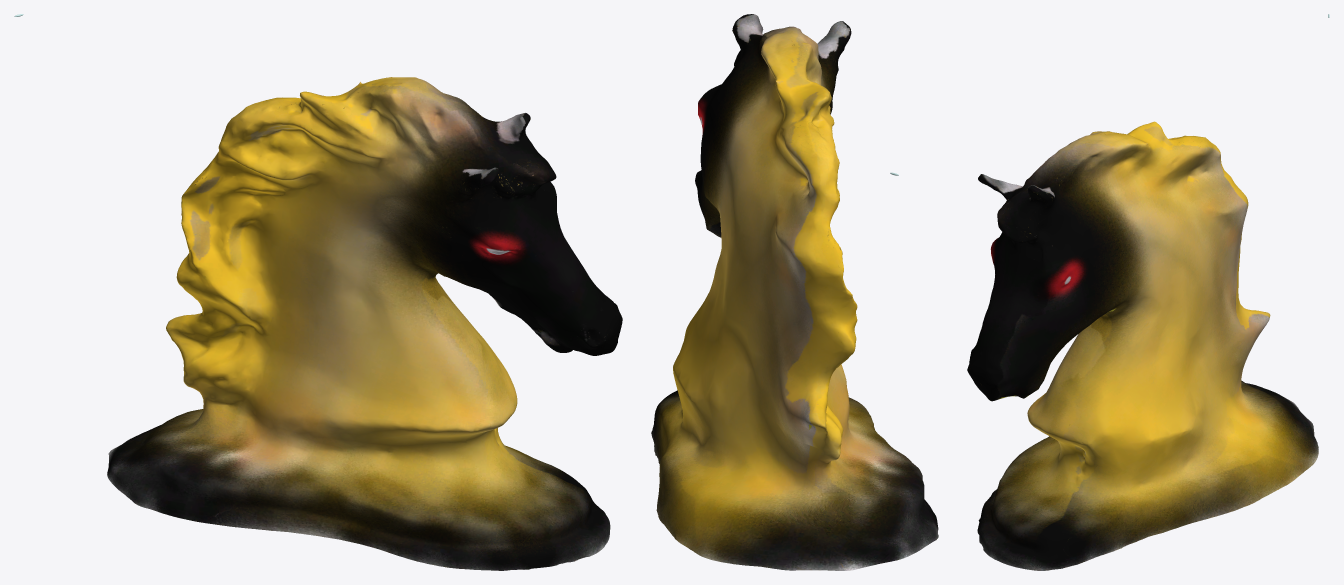
Rendered from Trojan.fbx.
The picture shows the model from 3 angles, left to right: view 1: azimuth 30°, elevation 25°; view 2: azimuth 150°, elevation 25°; view 3: azimuth 270°, elevation 25°; orthographic projection. The views are drawn at different scales.
Visible parts, largest first — view 1: node_id127, node_id125, node_id129; view 2: node_id125, node_id127, node_id129; view 3: node_id125, node_id127, node_id129.
Part boxes in pixels (x1,y1,x2,y2): node_id127: (168,86,610,568); node_id125: (107,77,622,524); node_id129: (229,92,622,570); node_id125: (651,15,938,570); node_id127: (651,21,911,469); node_id129: (707,14,841,490); node_id125: (967,122,1318,563); node_id127: (978,131,1270,570); node_id129: (974,121,1242,540).
Size of the model in its own units: 0.3337 by 0.3662 by 0.3071.
5 materials, 5 textured.
